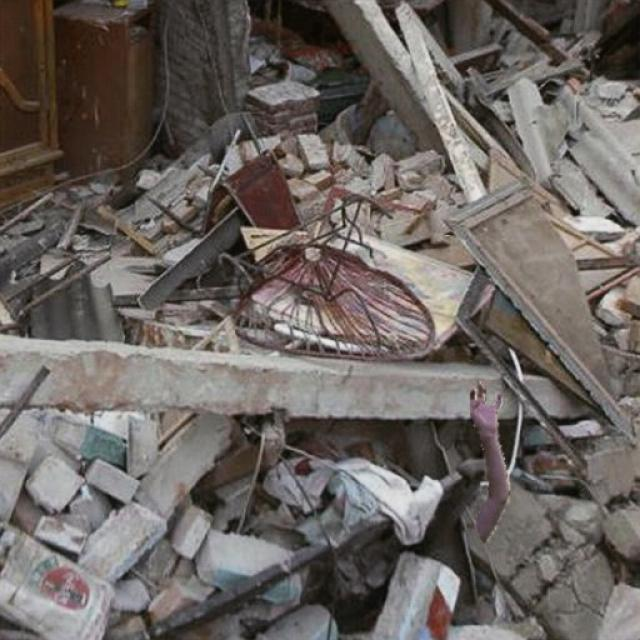Person in Rubble: (470, 382, 509, 542)
